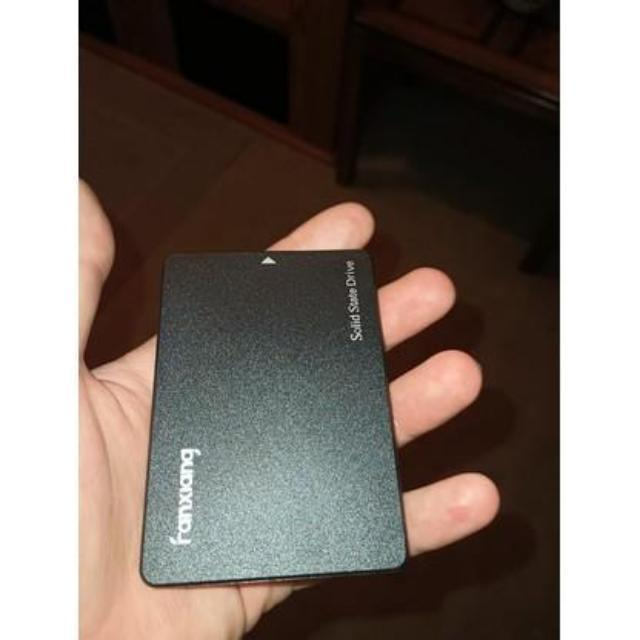DISK: (133, 248, 415, 597)
